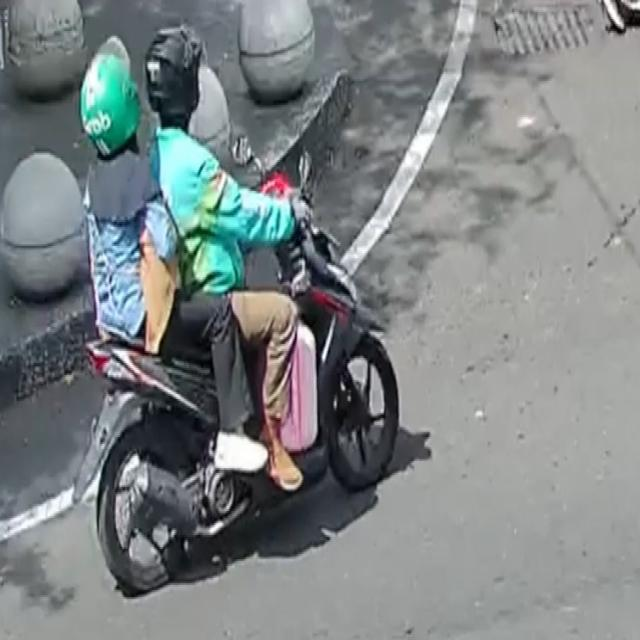helm: (76, 35, 146, 167), (143, 24, 210, 129)
motor: (73, 25, 410, 597)
spion: (226, 117, 274, 191), (289, 136, 325, 209)
